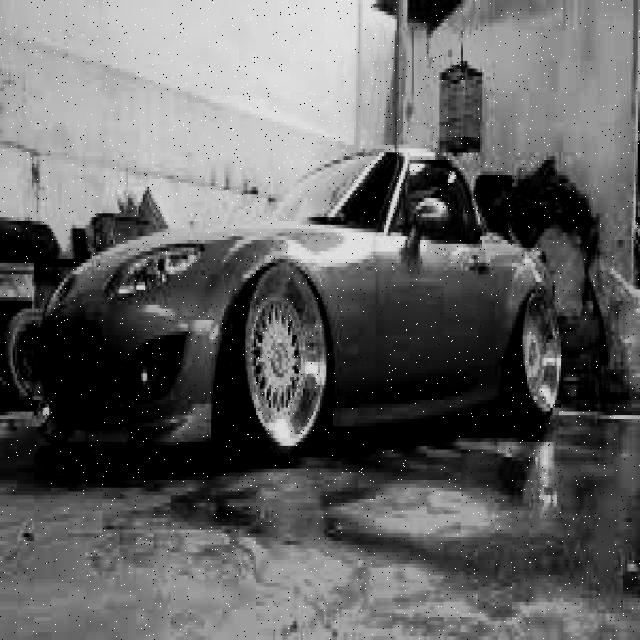Car: (31, 74, 575, 478)
